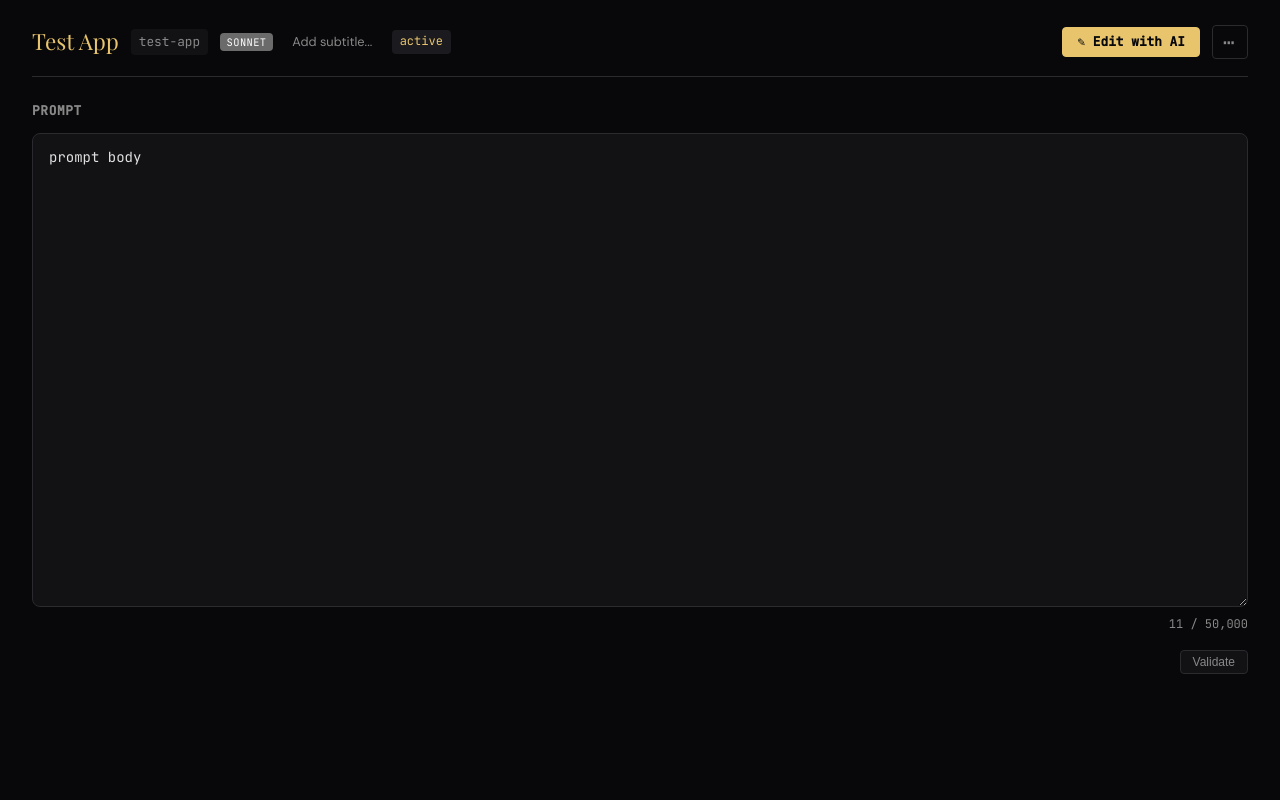
Test: AppEditor toolbar › shows Publish/Discard buttons and change note bar when dirty
The width and height of the screenshot is (1280, 800).
Expected: the button with test id "toolbar-primary-btn" shows "Edit with AI", [1062,27,1200,57]
# Find the textarea rendered by PromptHighlighter and type to make dirty
Replace the text in the text box with placeholder "Write your app's system prompt..." with "prompt body extra text" at (640, 370), box [32,133,1248,607]
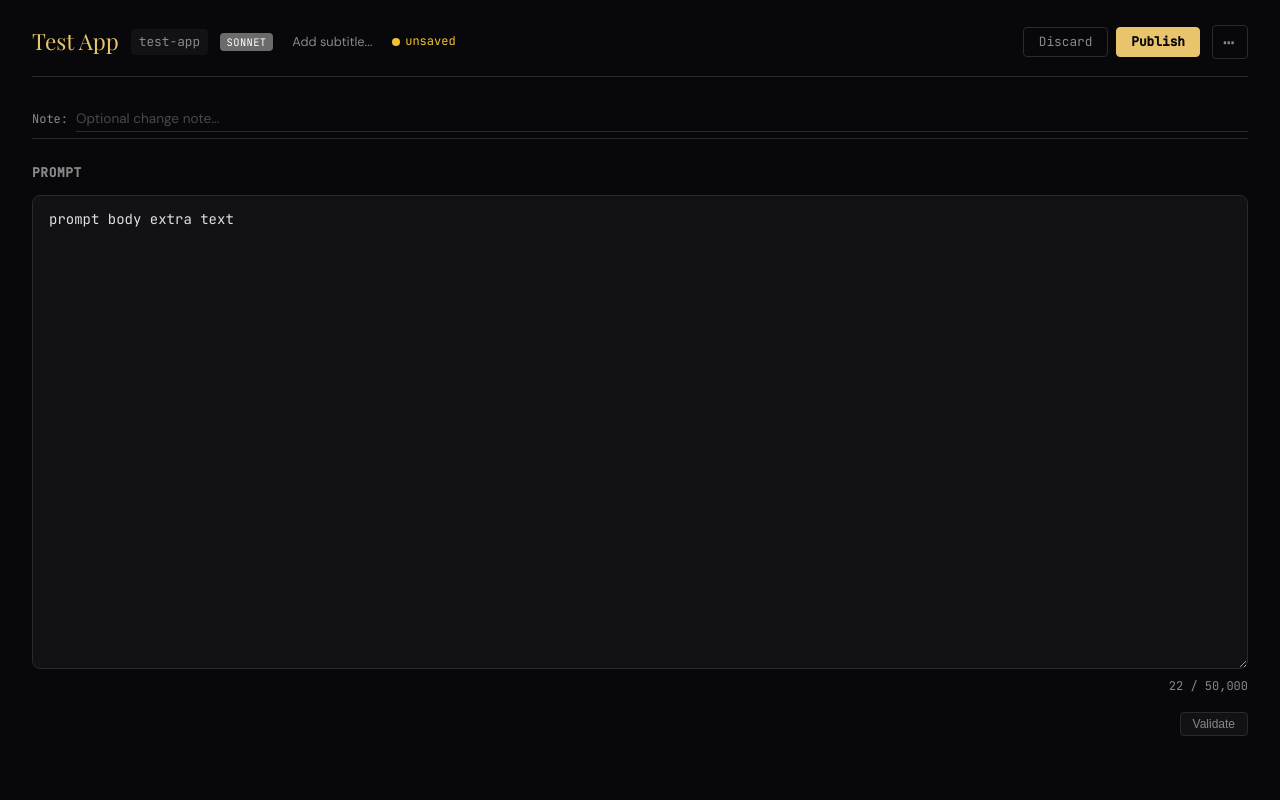
Expected: the button with test id "toolbar-primary-btn" reads "Publish", [1116,27,1200,57]
Expected: the button with test id "toolbar-discard-btn" is shown, [1023,27,1108,57]
Expected: the element with test id "change-note-bar" is shown, [32,101,1248,139]
